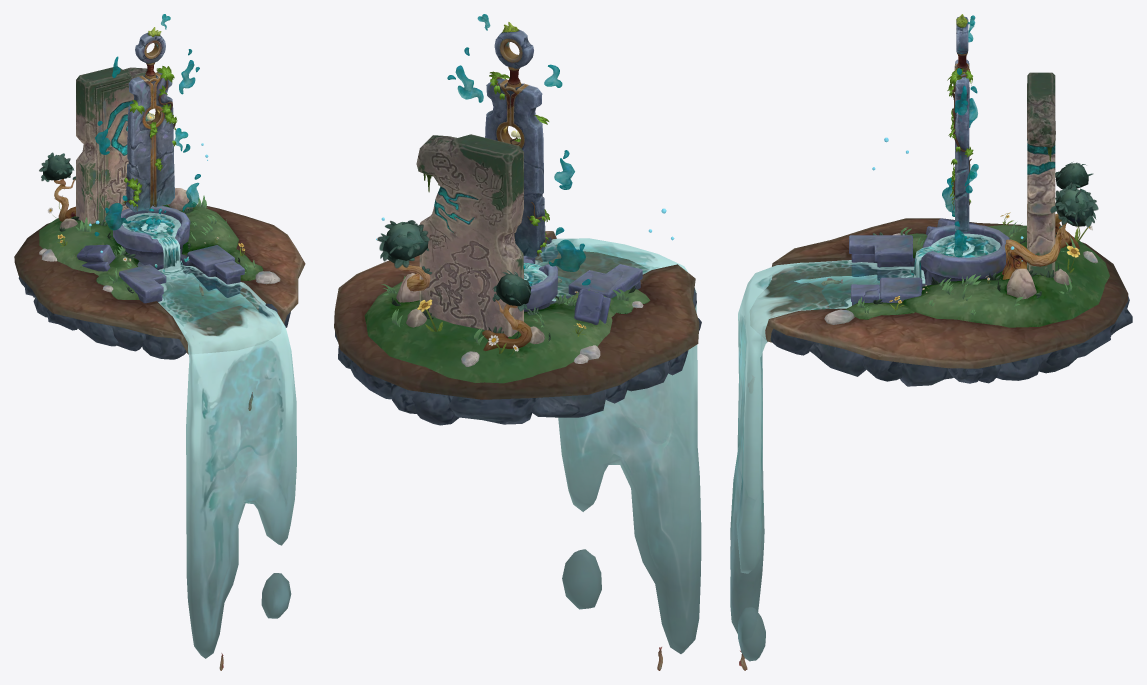
The model's file is PRP_Waypoint_Zep.glb.
3 renders of one model, left to right at view 1: azimuth 30°, elevation 25°; view 2: azimuth 150°, elevation 25°; view 3: azimuth 270°, elevation 25°, orthographic. The views are drawn at different scales.
Visible parts, largest first — view 1: FISH_blinn1_0, Grass_Low_Environment_0, Sword_Low_SwordStone_Mat_0, Bush2_Low_VegButNoOp_0; view 2: Grass_Low_Environment_0, FISH_blinn1_0, Sword_Low_SwordStone_Mat_0, Bush2_Low_VegButNoOp_0; view 3: Grass_Low_Environment_0, FISH_blinn1_0, Sword_Low_SwordStone_Mat_0, Bush2_Low_VegButNoOp_0.
Part boxes in pixels (left/top/right/bottom): FISH_blinn1_0: left=39, top=112, right=296, bottom=670; Grass_Low_Environment_0: left=14, top=14, right=305, bottom=359; Sword_Low_SwordStone_Mat_0: left=76, top=27, right=177, bottom=223; Bush2_Low_VegButNoOp_0: left=43, top=115, right=149, bottom=180; Grass_Low_Environment_0: left=334, top=14, right=701, bottom=425; FISH_blinn1_0: left=376, top=208, right=701, bottom=670; Sword_Low_SwordStone_Mat_0: left=416, top=22, right=549, bottom=336; Bush2_Low_VegButNoOp_0: left=383, top=222, right=531, bottom=306; Grass_Low_Environment_0: left=750, top=15, right=1132, bottom=386; FISH_blinn1_0: left=730, top=137, right=1098, bottom=670; Sword_Low_SwordStone_Mat_0: left=947, top=14, right=1055, bottom=275; Bush2_Low_VegButNoOp_0: left=1055, top=163, right=1093, bottom=226.
Size of the model in its own units: 2.87 by 6.27 by 3.37.
5 materials, 5 textured.
